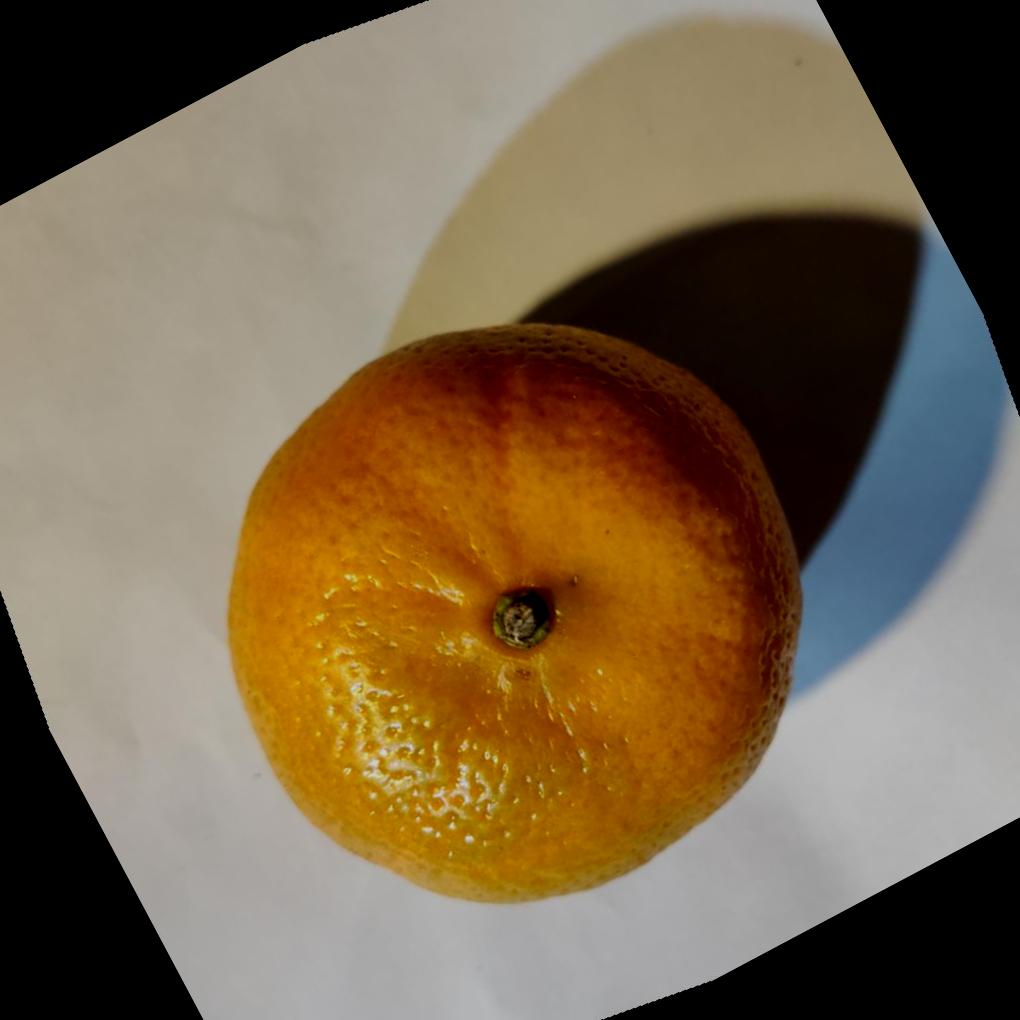FreshGuava: (227, 316, 807, 902)
